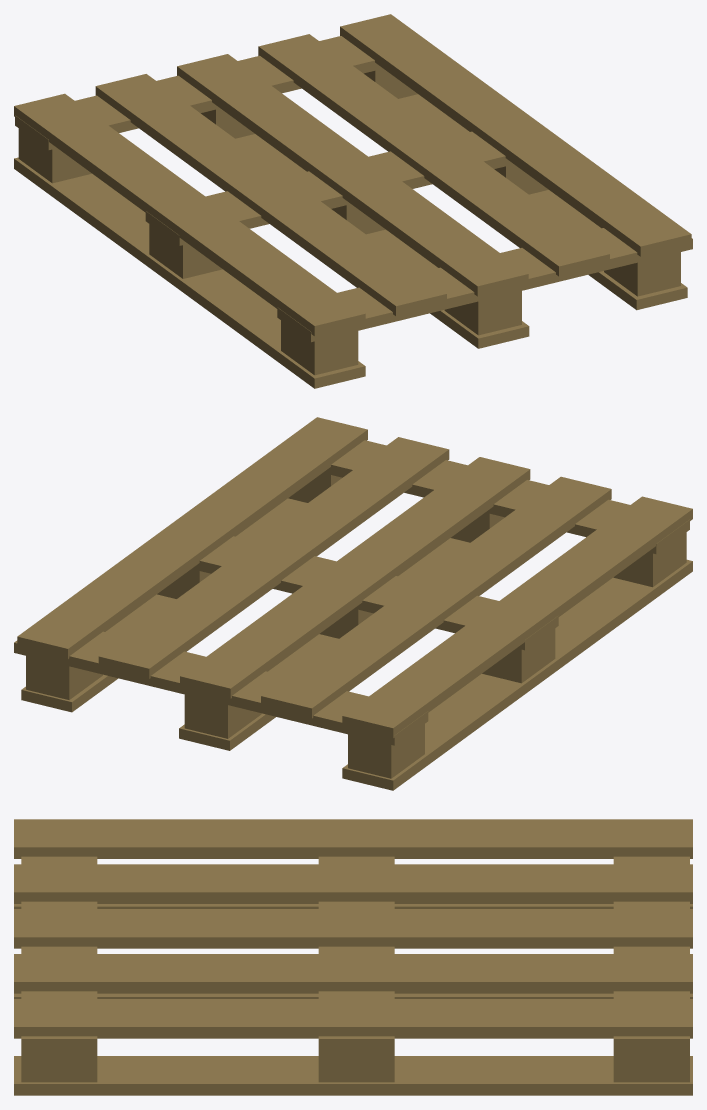
File: pallet.glb
3 views of the same model, one above another, from view 1: azimuth 30°, elevation 25°; view 2: azimuth 150°, elevation 25°; view 3: azimuth 270°, elevation 25° (orthographic). The views are drawn at different scales.
Visible parts, largest first — view 1: Pallet; view 2: Pallet; view 3: Pallet.
Boxes of the visible parts, x1,y1,x2,y2 form: Pallet: (14, 14, 692, 388); Pallet: (14, 417, 692, 790); Pallet: (14, 819, 692, 1095).
Bounding box in the file's own units: 0.8925 × 0.1401 × 1.22.
